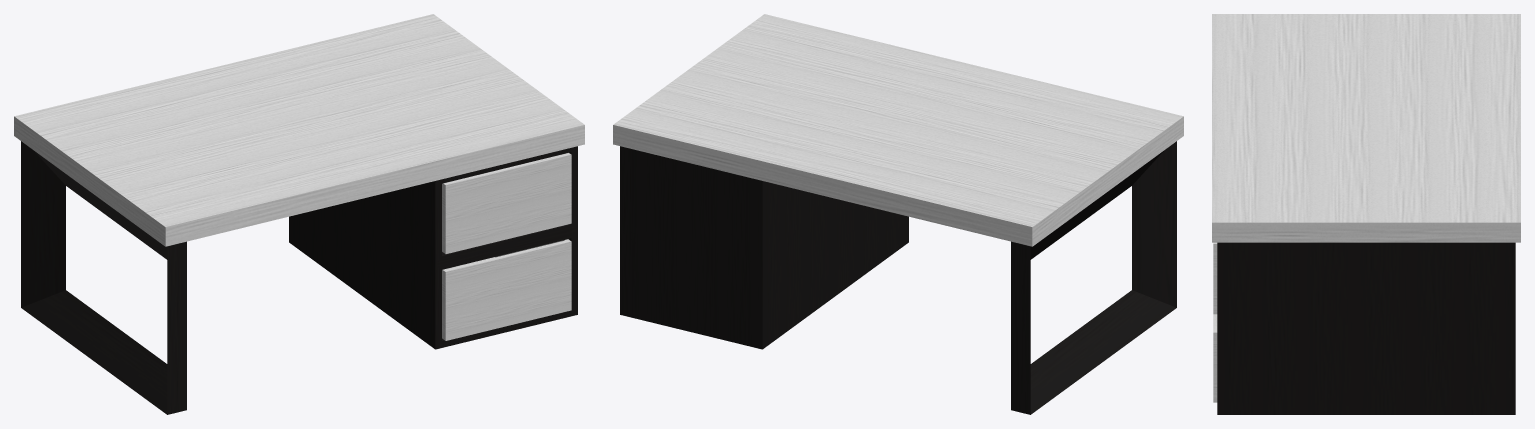
File: Desk_W_Drawers_F.FBX
3 renders of one model, left to right at view 1: azimuth 30°, elevation 25°; view 2: azimuth 150°, elevation 25°; view 3: azimuth 270°, elevation 25°, orthographic.
Parts seen in each view (by area): view 1: Desk_With_Drawers, Drawer_B, Drawer_A; view 2: Desk_With_Drawers; view 3: Desk_With_Drawers, Drawer_B, Drawer_A.
Part boxes in pixels (x1,y1,x2,y2): Desk_With_Drawers: (14, 14, 584, 414); Drawer_B: (442, 239, 571, 340); Drawer_A: (442, 153, 571, 253); Desk_With_Drawers: (613, 14, 1183, 414); Desk_With_Drawers: (1212, 14, 1520, 414); Drawer_B: (1213, 314, 1217, 402); Drawer_A: (1213, 242, 1217, 314).
Bounding box in the file's own units: 227 × 98.47 × 142.
